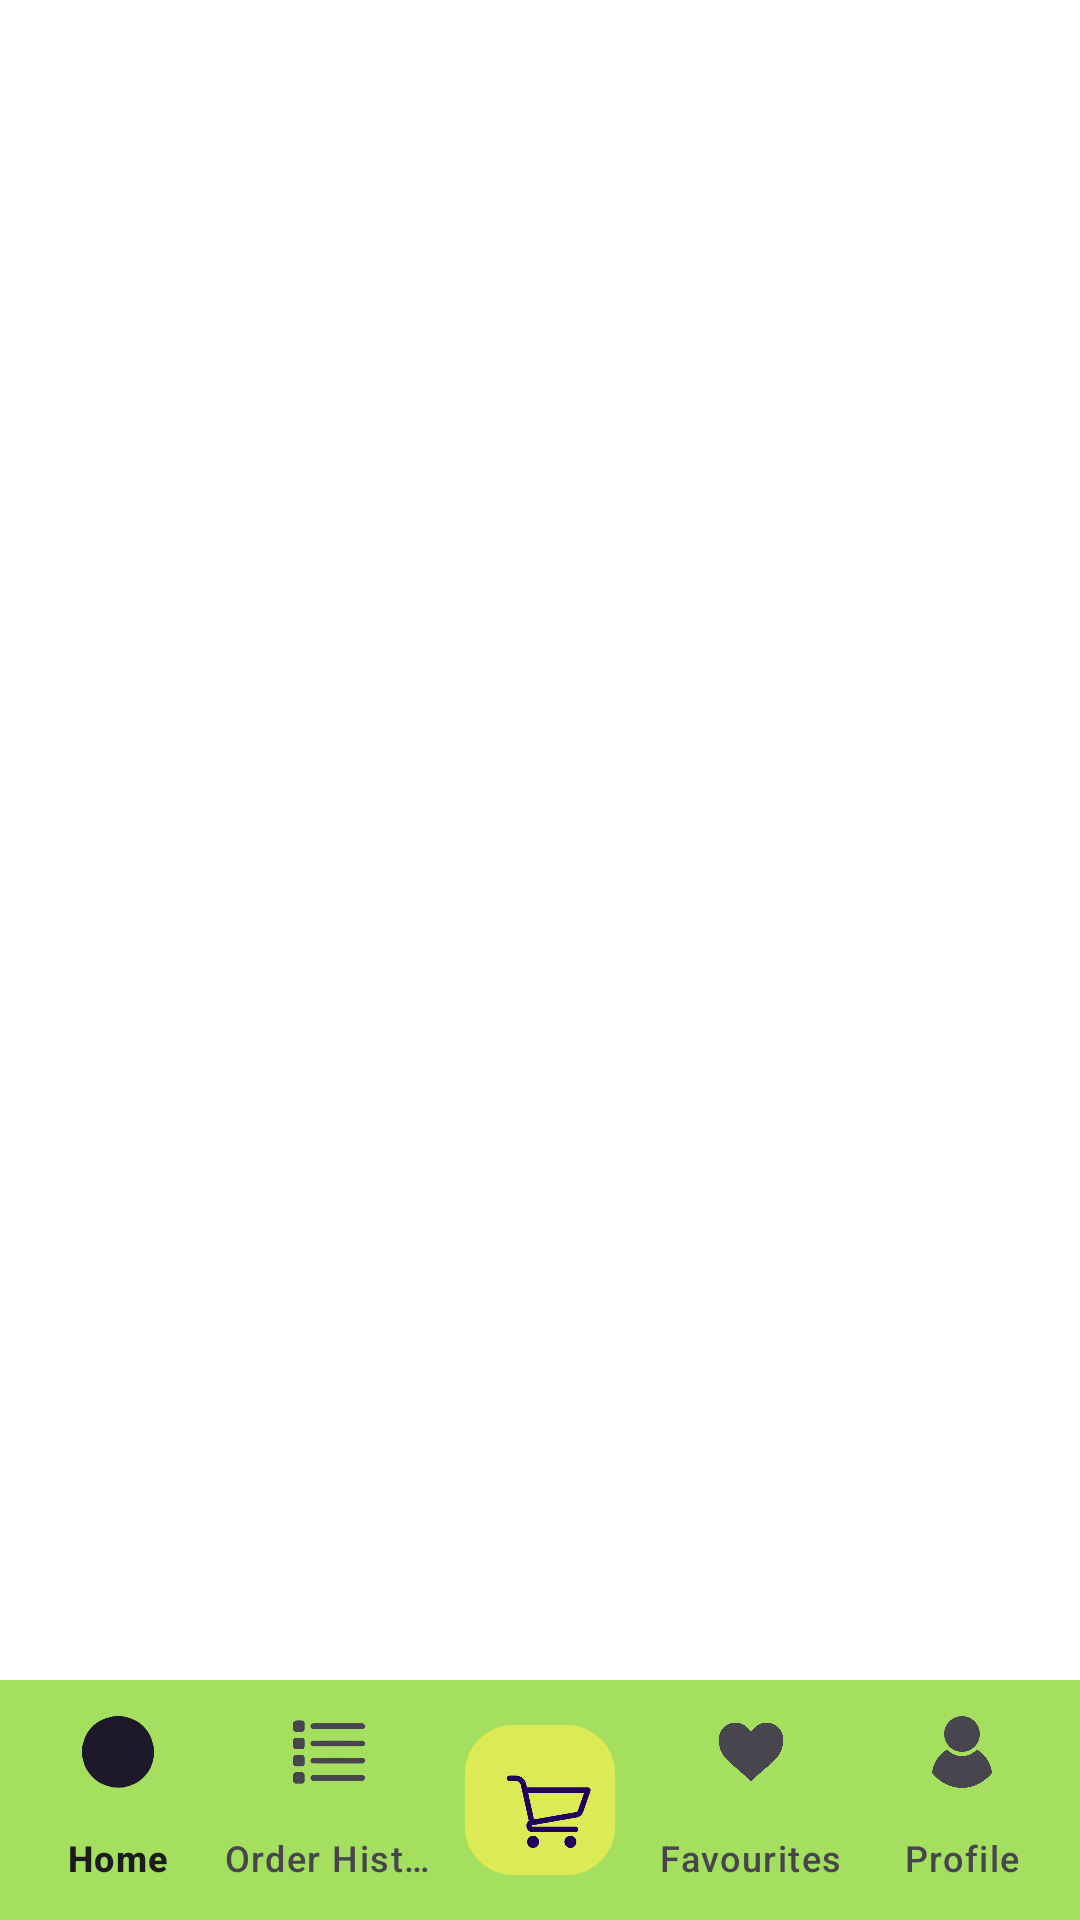

Where to tap for icons on this 1080×1920 app screen, as (x=x, y=y):
cart: (x=540, y=1822)
